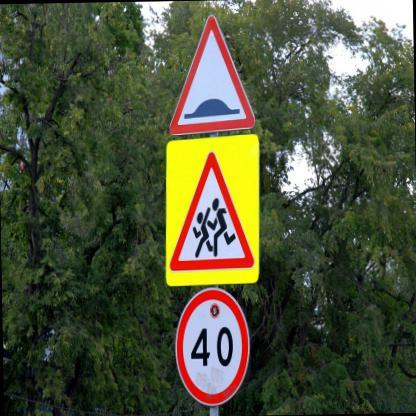road_sign: (169, 151, 254, 271), (170, 15, 253, 134), (176, 287, 249, 407)
